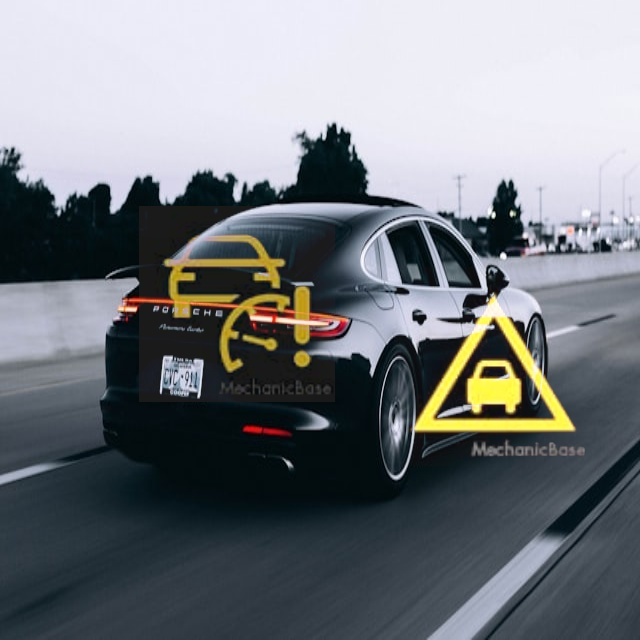symbol: (394, 267, 593, 466), (139, 206, 335, 402)
